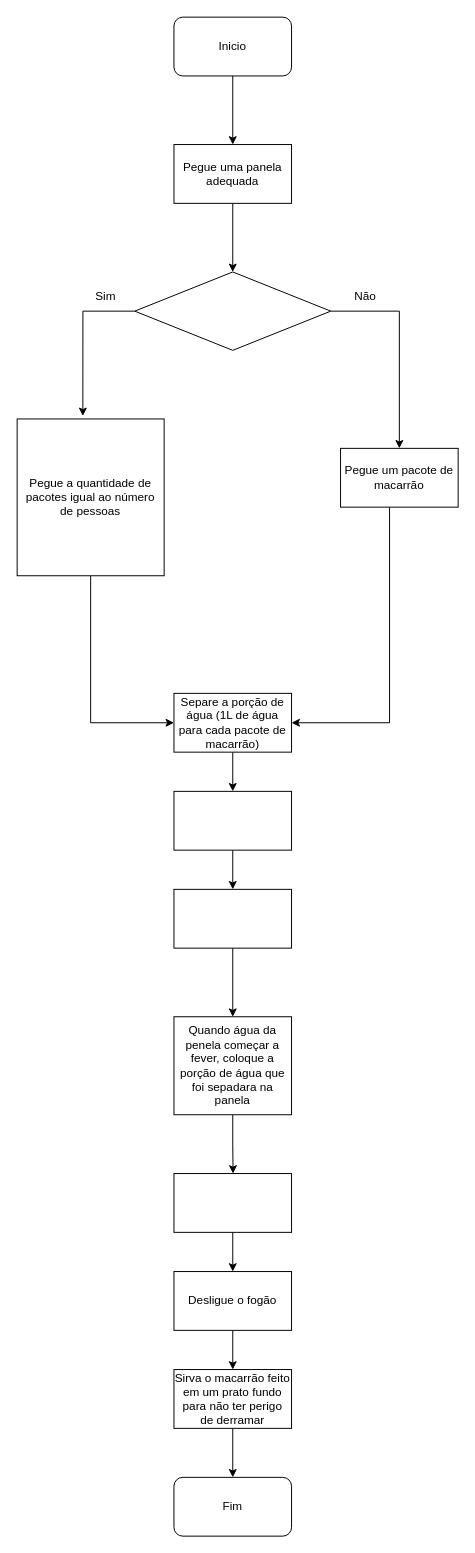
Some shapes in this 475 by 1553 pixel diagram are drawn without their labels. Here are the shapes that lost their labels. From the top down, the box of each, then its label:
(134, 271, 331, 350): É para uma pessoa?
(173, 790, 292, 850): Ligue a boca do fogão
(173, 888, 292, 948): Cologue a panela na boca que foi ligada
(173, 1173, 292, 1232): Após 3 min, coloque o tempero e misture durante 2min
